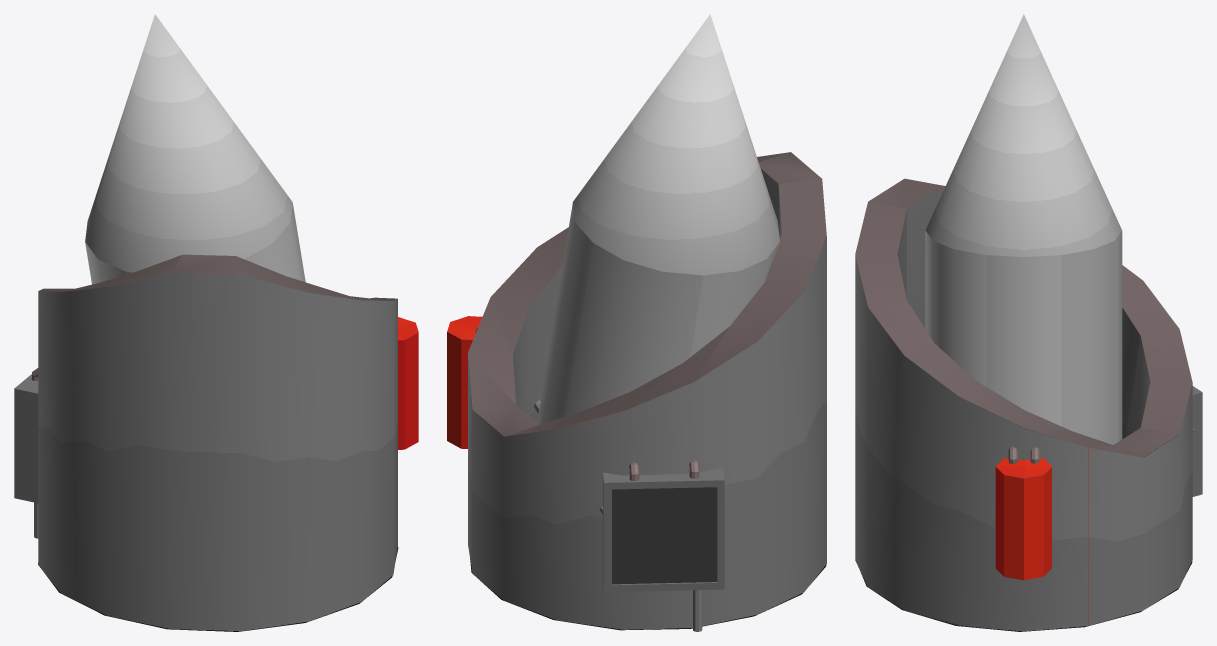
Rendered from Armory.fbx.
3 renders of one model, left to right at view 1: azimuth 30°, elevation 25°; view 2: azimuth 150°, elevation 25°; view 3: azimuth 270°, elevation 25°, orthographic. The views are drawn at different scales.
Visible parts, largest first — view 1: pCylinder8; view 2: pCylinder8; view 3: pCylinder8.
Part boxes in pixels (x1,y1,x2,y2): pCylinder8: (14,14,418,631); pCylinder8: (447,14,826,631); pCylinder8: (855,14,1202,631).
Bounding box in the file's own units: 13.55 × 20.34 × 12.36.
Materials: 1 (1 with a texture image).
